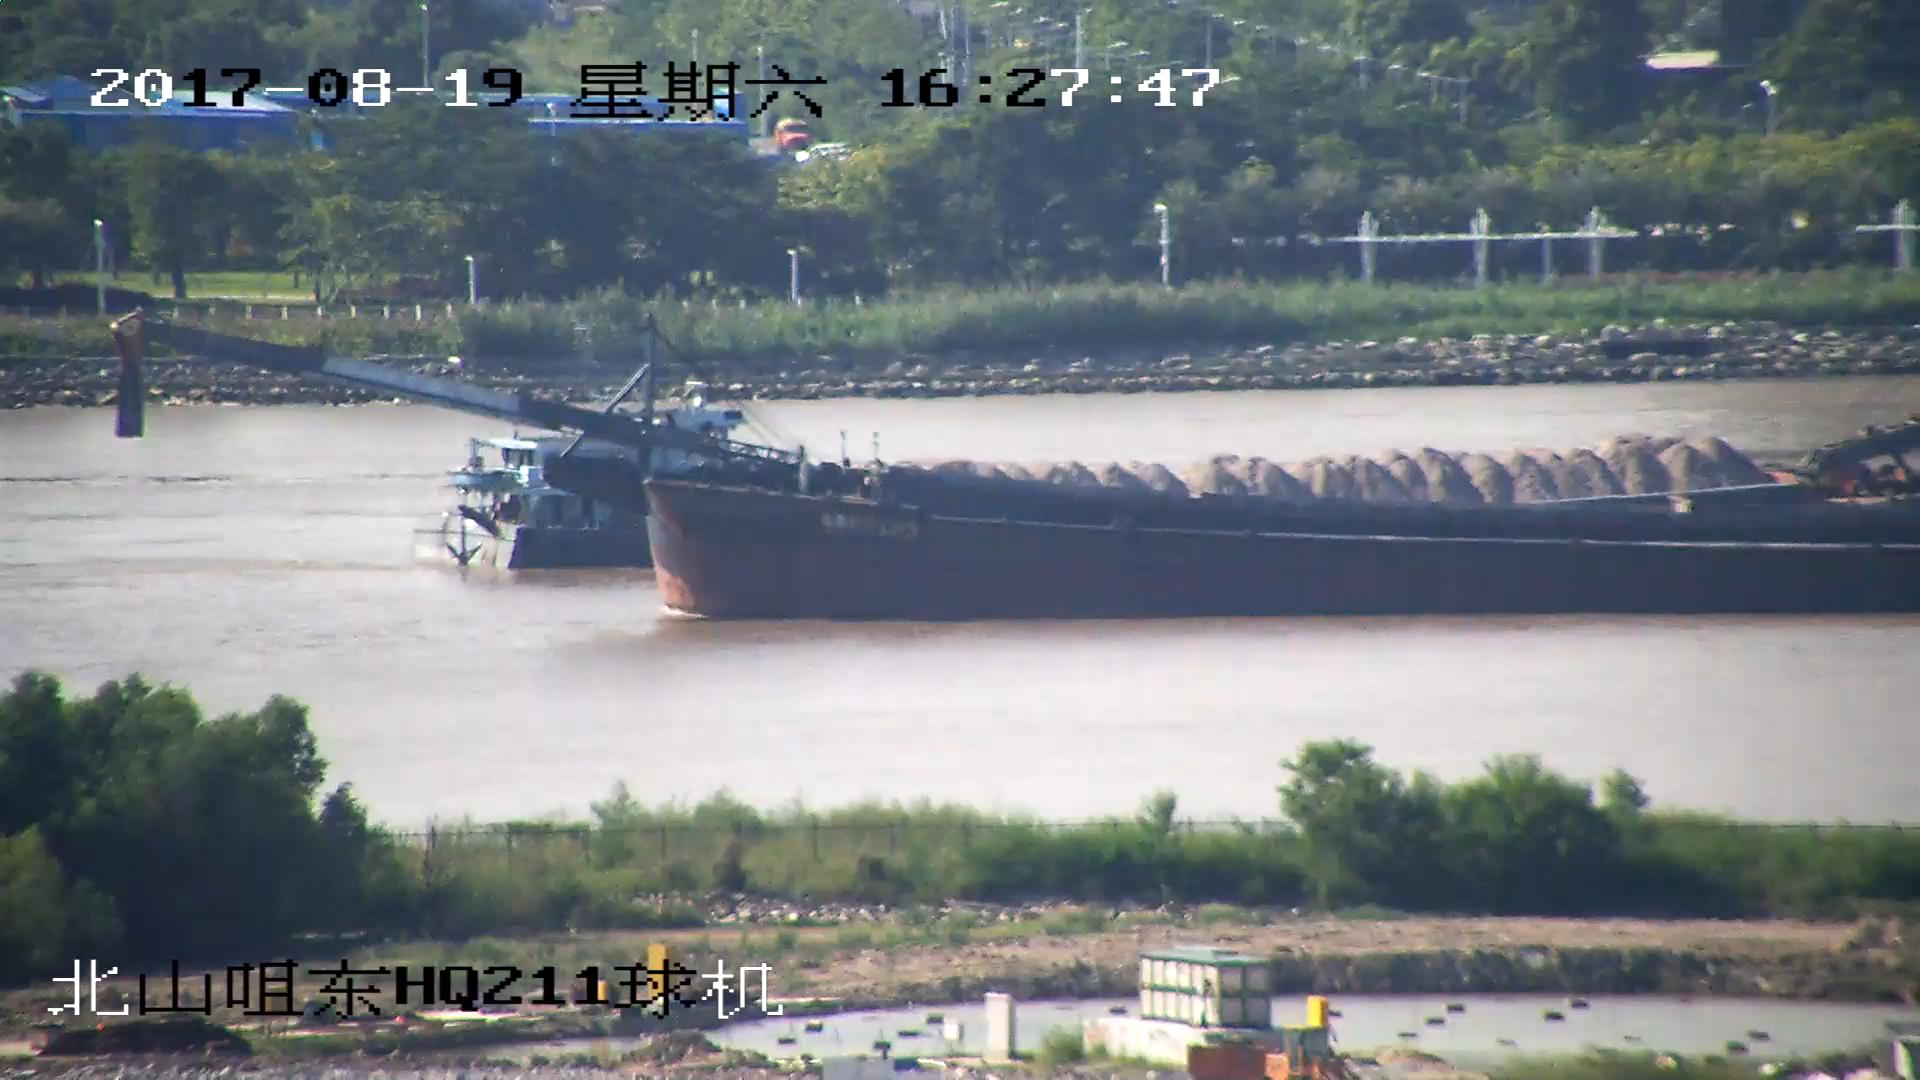bulk cargo carrier: (115, 316, 1920, 624)
ore carrier: (434, 431, 1920, 572)
